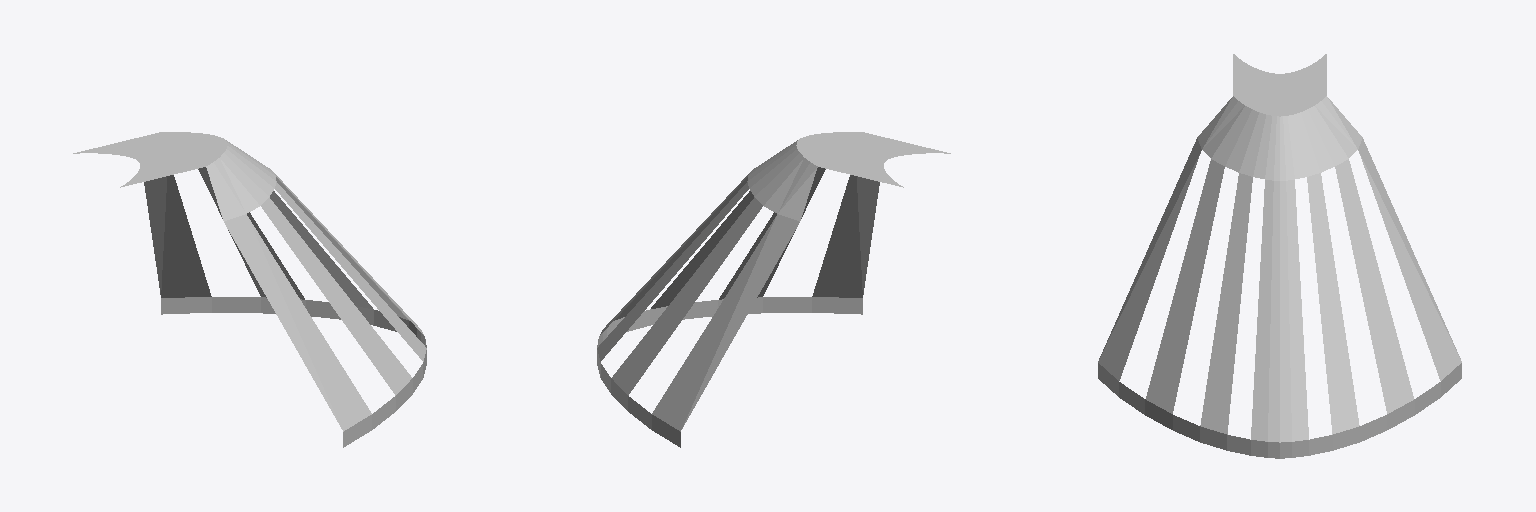
The model's file is trainFront.obj.
The picture shows the model from 3 angles: view 1: azimuth 30°, elevation 25°; view 2: azimuth 150°, elevation 25°; view 3: azimuth 270°, elevation 25°; orthographic projection.
Visible parts, largest first — view 1: Circle.004; view 2: Circle.004; view 3: Circle.004.
Boxes of the visible parts, box(x1,y1,x2,y2) form: Circle.004: box(73, 132, 426, 447); Circle.004: box(597, 132, 950, 447); Circle.004: box(1098, 54, 1461, 458).
Bounding box in the file's own units: 0.7855 × 0.5803 × 0.7709.